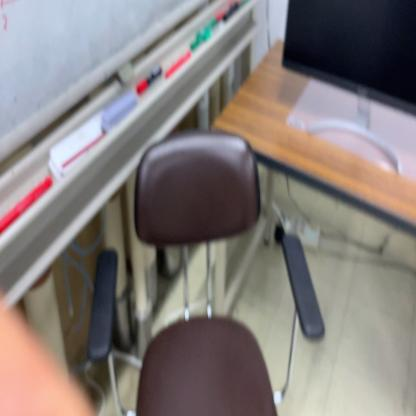chair: (88, 125, 324, 416)
